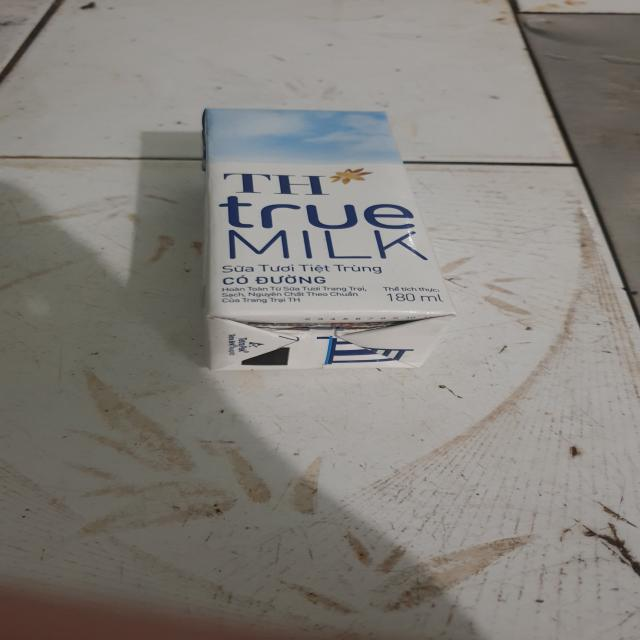TH: (207, 107, 448, 372)
